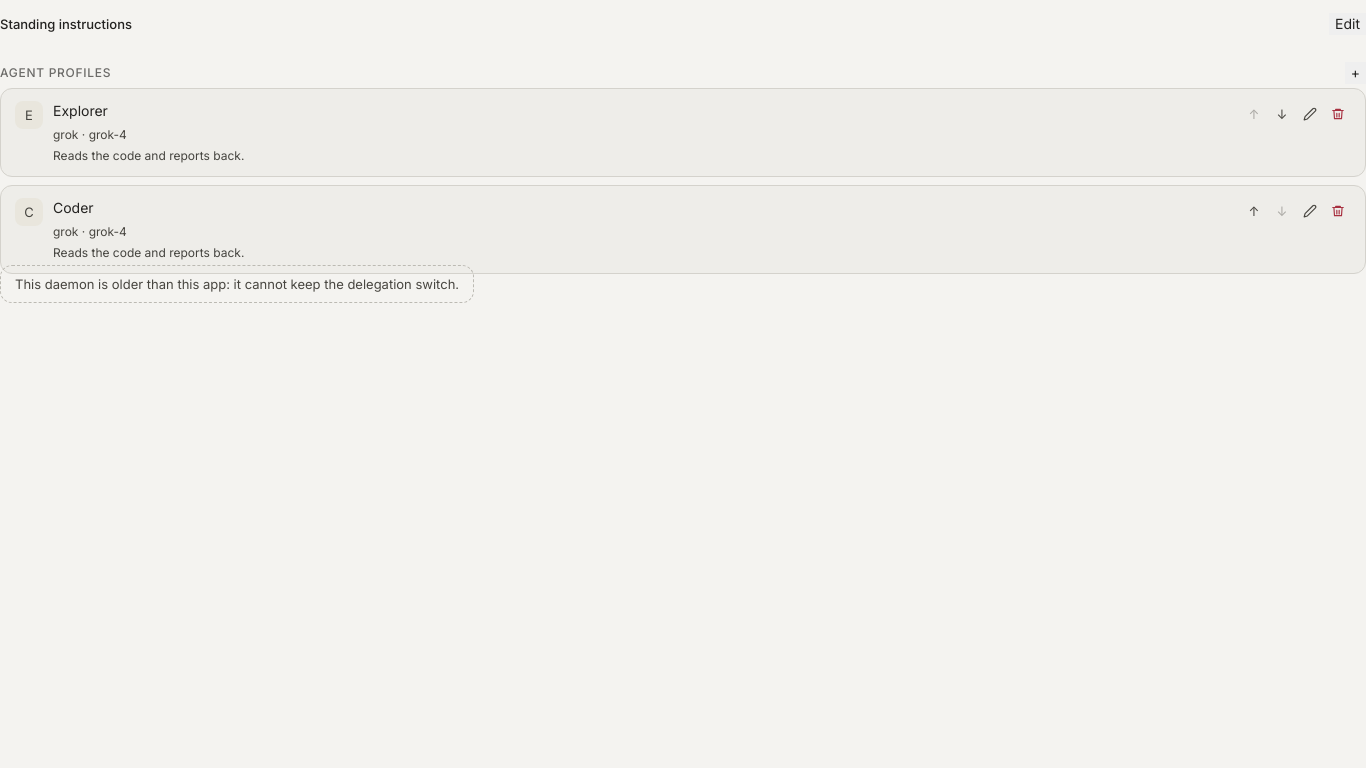
Test case: Settings agents panel — the profile dialog › drops no stale refusal into the next dialog
Click the button named "Edit Explorer": (1310,114) [1297,101,1323,127]
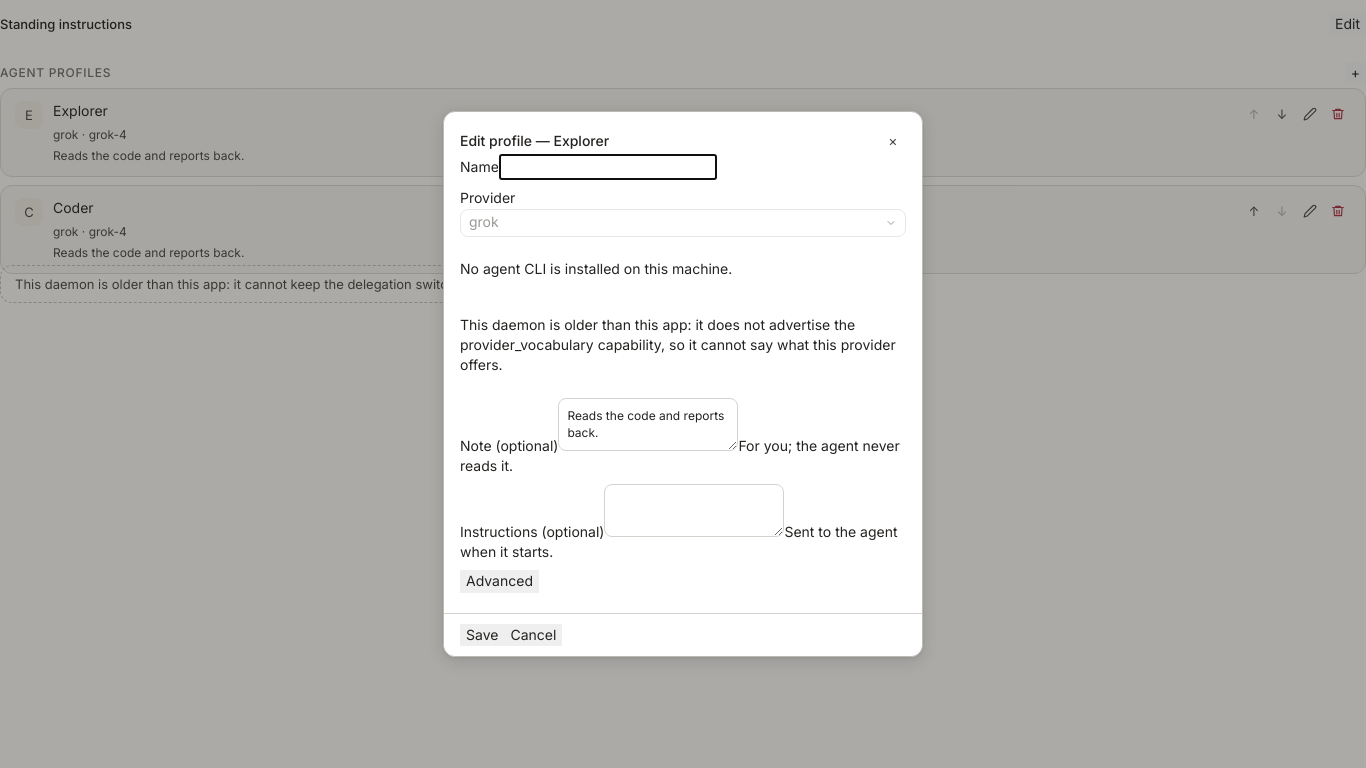
Click the button "Save": (482,635) [460,624,504,646]
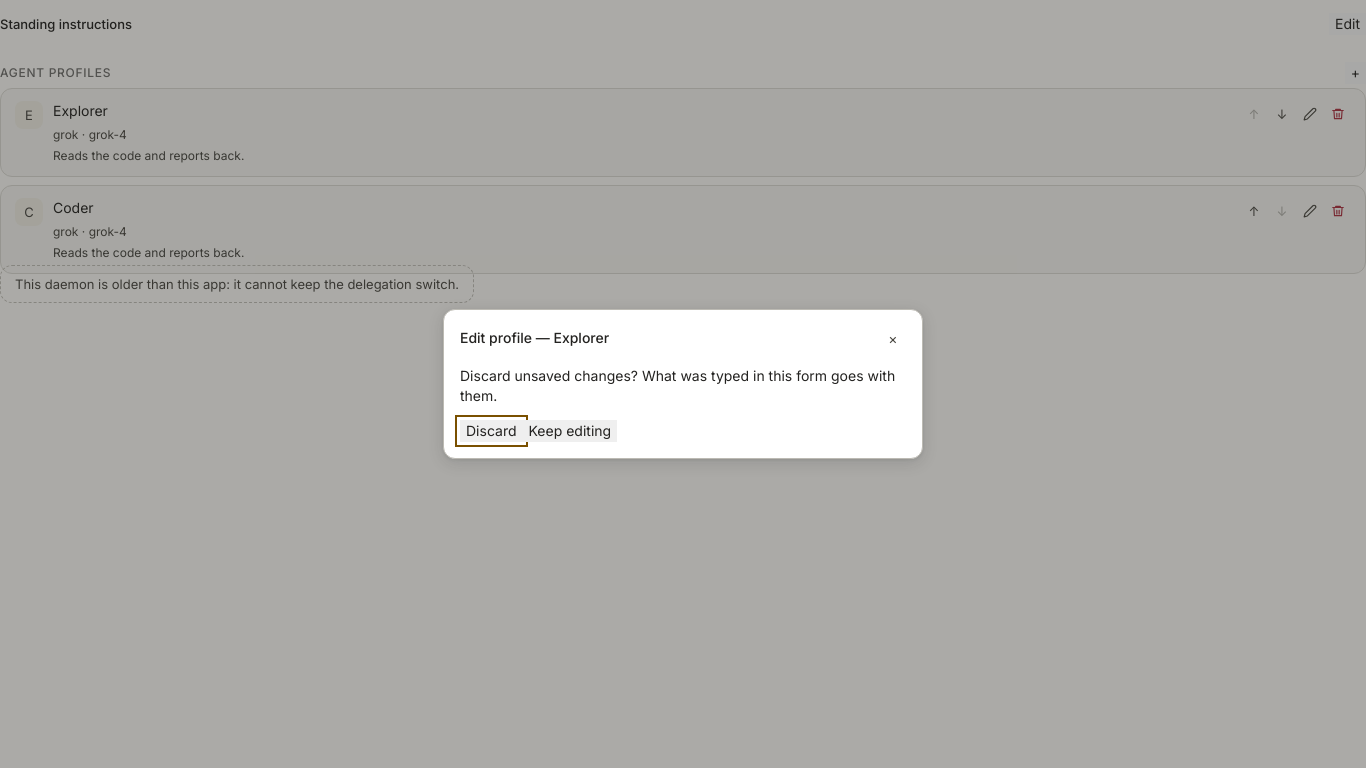
Now the message is shown, box [460,366,906,442]
Click the button "Discard": (491,431) [460,420,522,442]
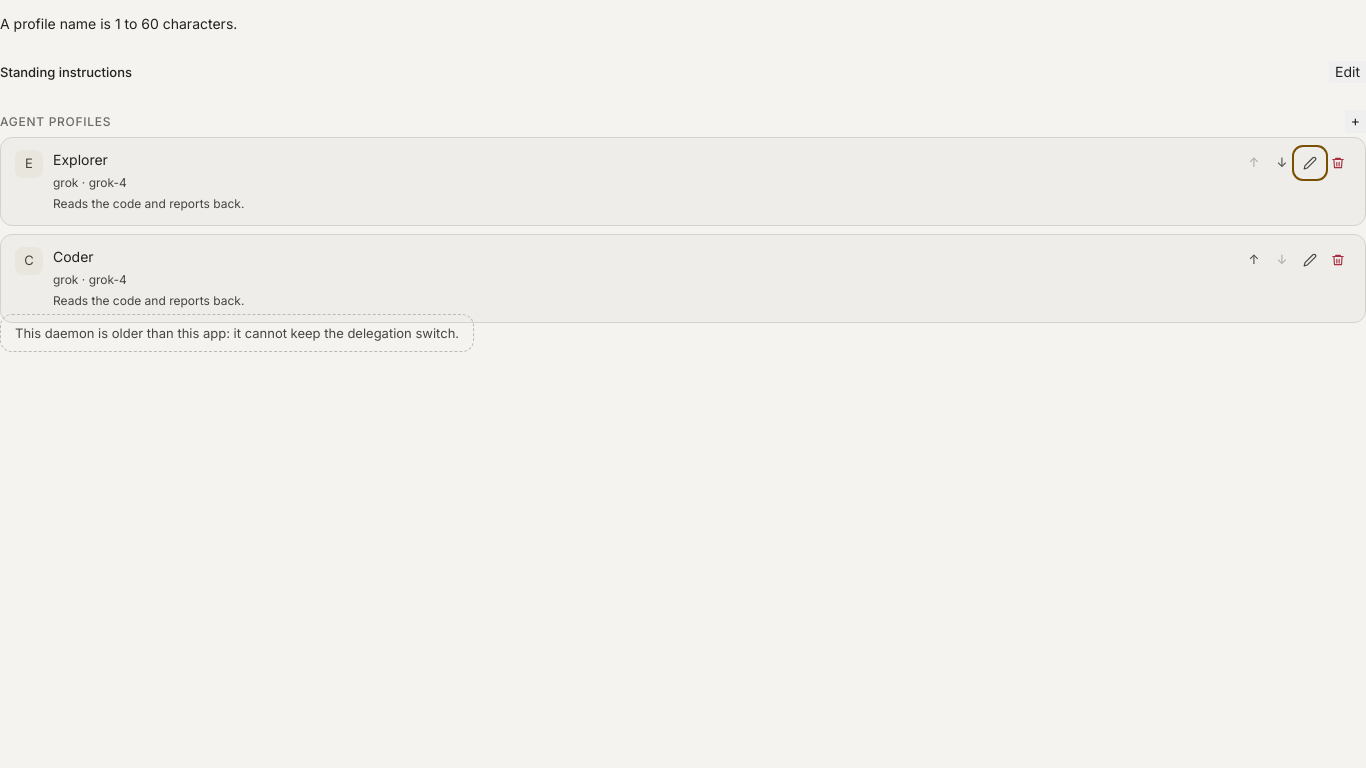
Click the button named "Edit Coder": (1310,260) [1297,247,1323,273]
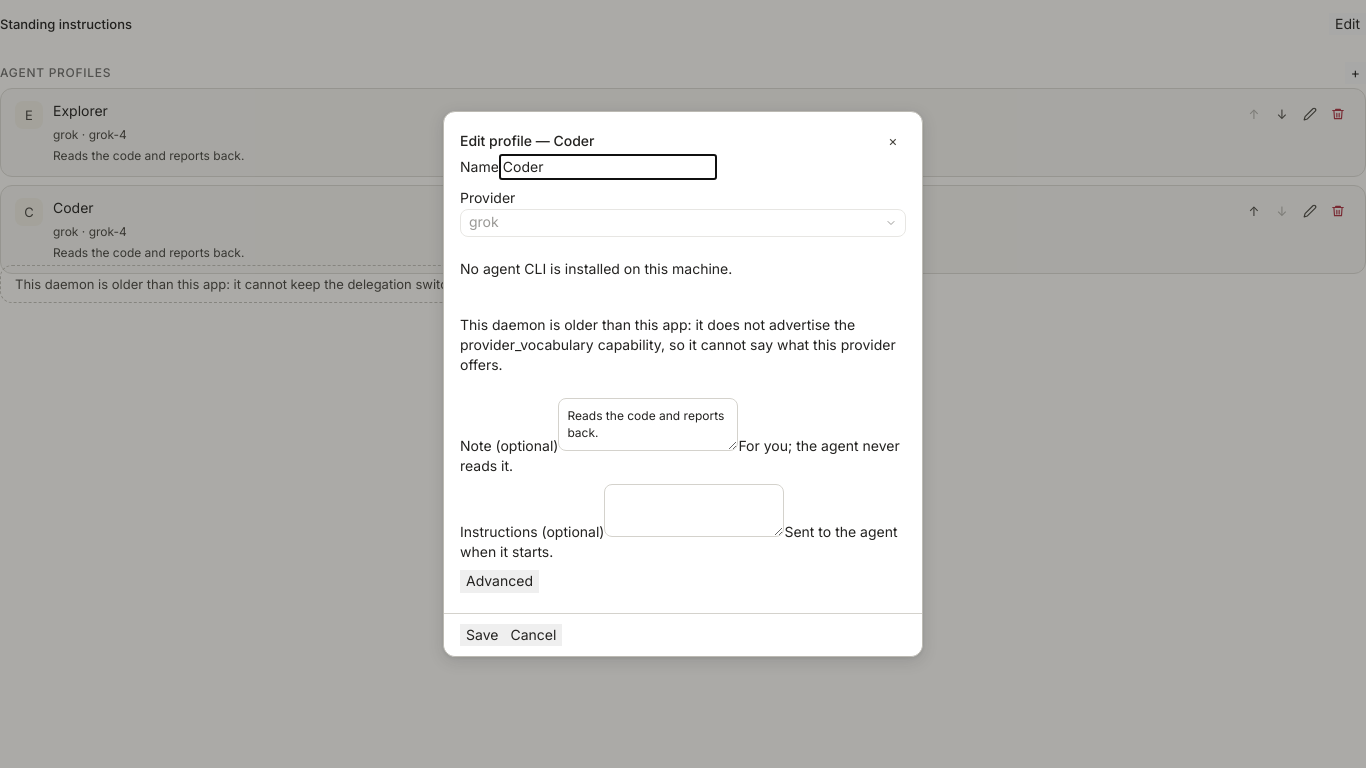
Now the message "A profile name is 1 to 60 characters." is gone
